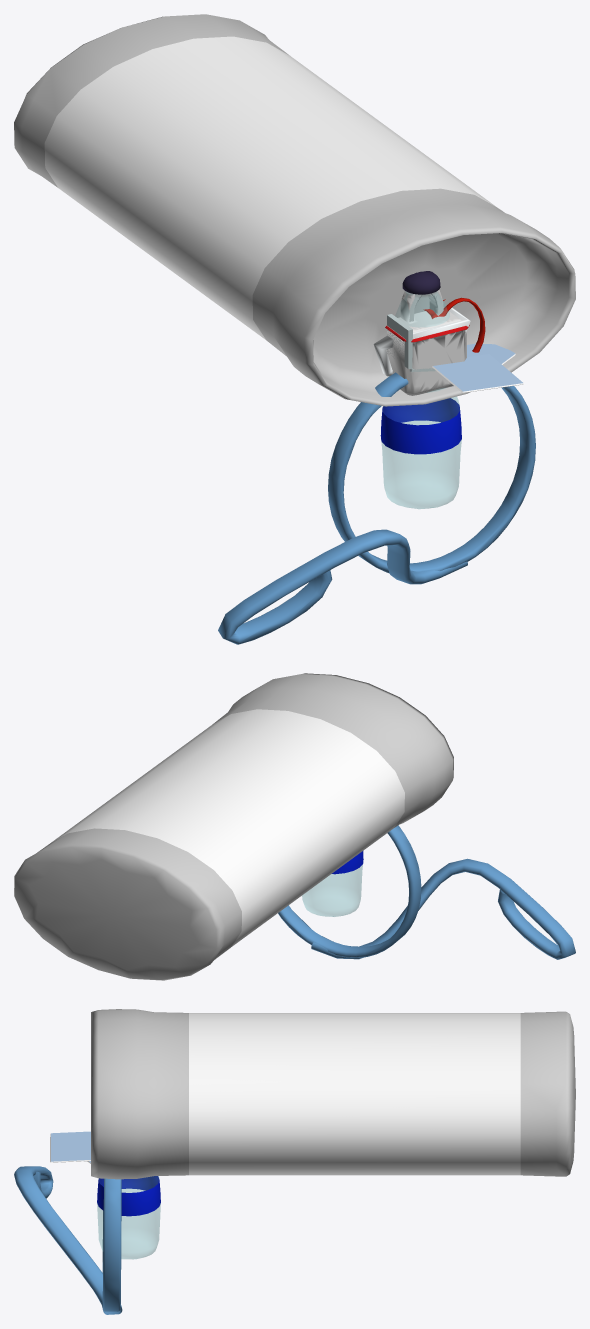
The model's file is escenario-desafio.glb.
3 renders of one model, top to bottom at view 1: azimuth 30°, elevation 25°; view 2: azimuth 150°, elevation 25°; view 3: azimuth 270°, elevation 25°, orthographic. The views are drawn at different scales.
Visible parts, largest first — view 1: latita, medalla, Cylinder.002, Cube.002, idgato, taza, computador; view 2: latita, medalla, Cylinder.002; view 3: latita, medalla, Cylinder.002, idgato.
Boxes of the visible parts, x1,y1,x2,y2 form: latita: (14,14,575,406); medalla: (218,372,535,644); Cylinder.002: (380,271,461,508); Cube.002: (385,290,469,395); idgato: (432,343,523,392); taza: (373,305,470,376); computador: (387,314,435,372); latita: (14,673,453,980); medalla: (278,825,575,959); Cylinder.002: (302,851,363,916); latita: (91,1009,575,1179); medalla: (14,1166,122,1314); Cylinder.002: (97,1176,160,1259); idgato: (50,1131,90,1163).
Bounding box in the file's own units: 2.39 × 2.04 × 3.73.
21 materials, 3 textured.
